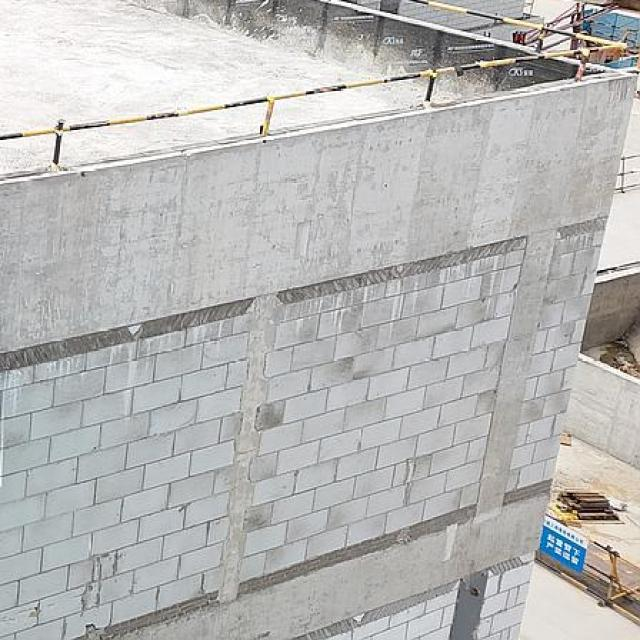edge_guardrail: (1, 0, 628, 170), (533, 514, 640, 626)
